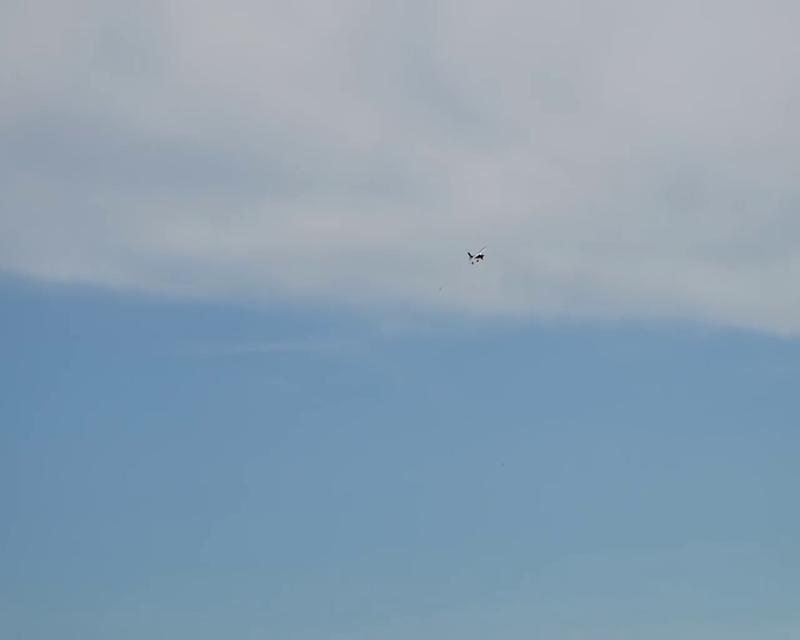UAV: (468, 245, 486, 266)
